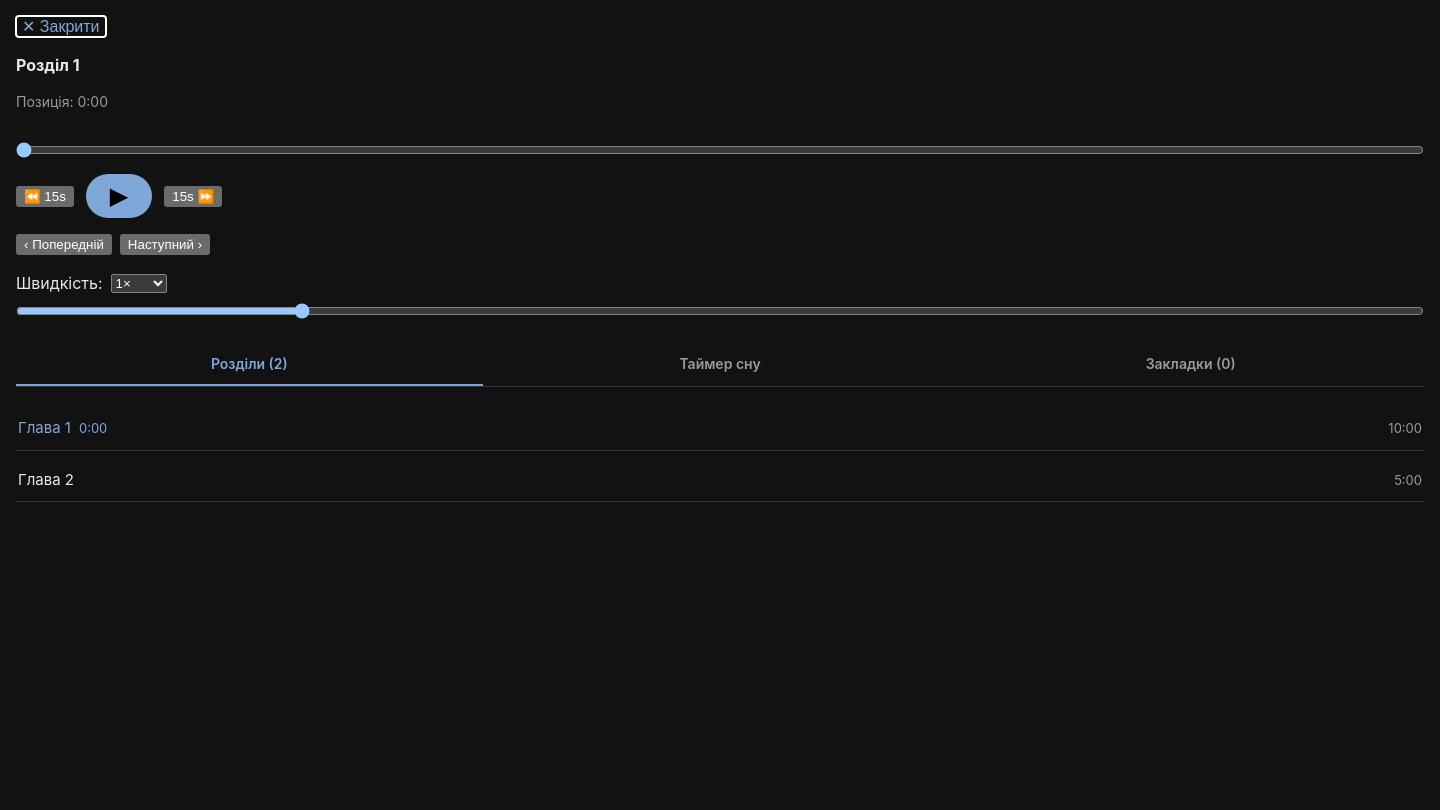
Test case: PlayerSheet panes (W5.1) › offers the exact 0.05 speed step beside the presets (1.1 / 1.15)
Set the slider named "Точна швидкість" to "1.1" at (358, 311), box x1=16 y1=303 x2=1424 y2=319
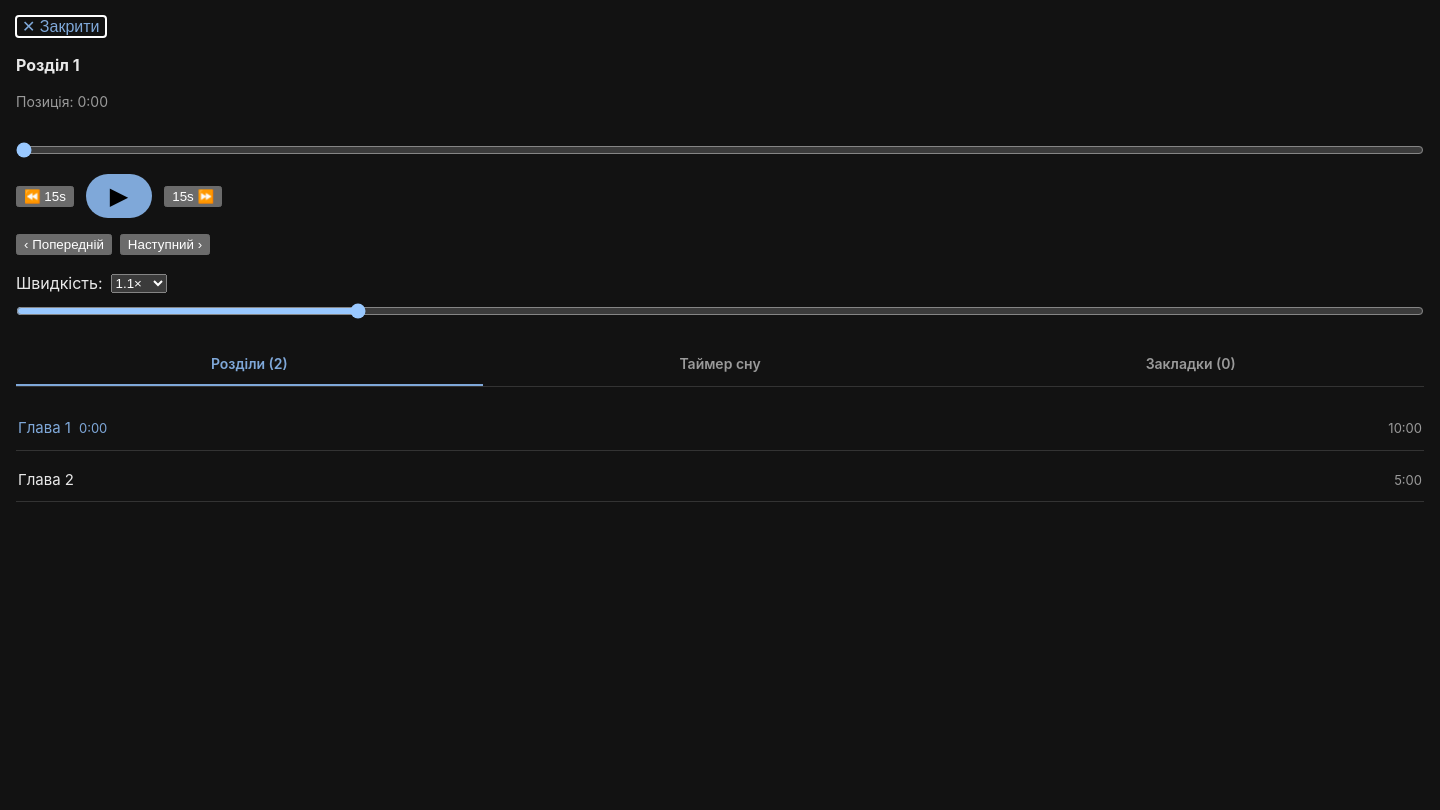
Set the slider named "Точна швидкість" to "1.15" at (386, 311), box x1=16 y1=303 x2=1424 y2=319
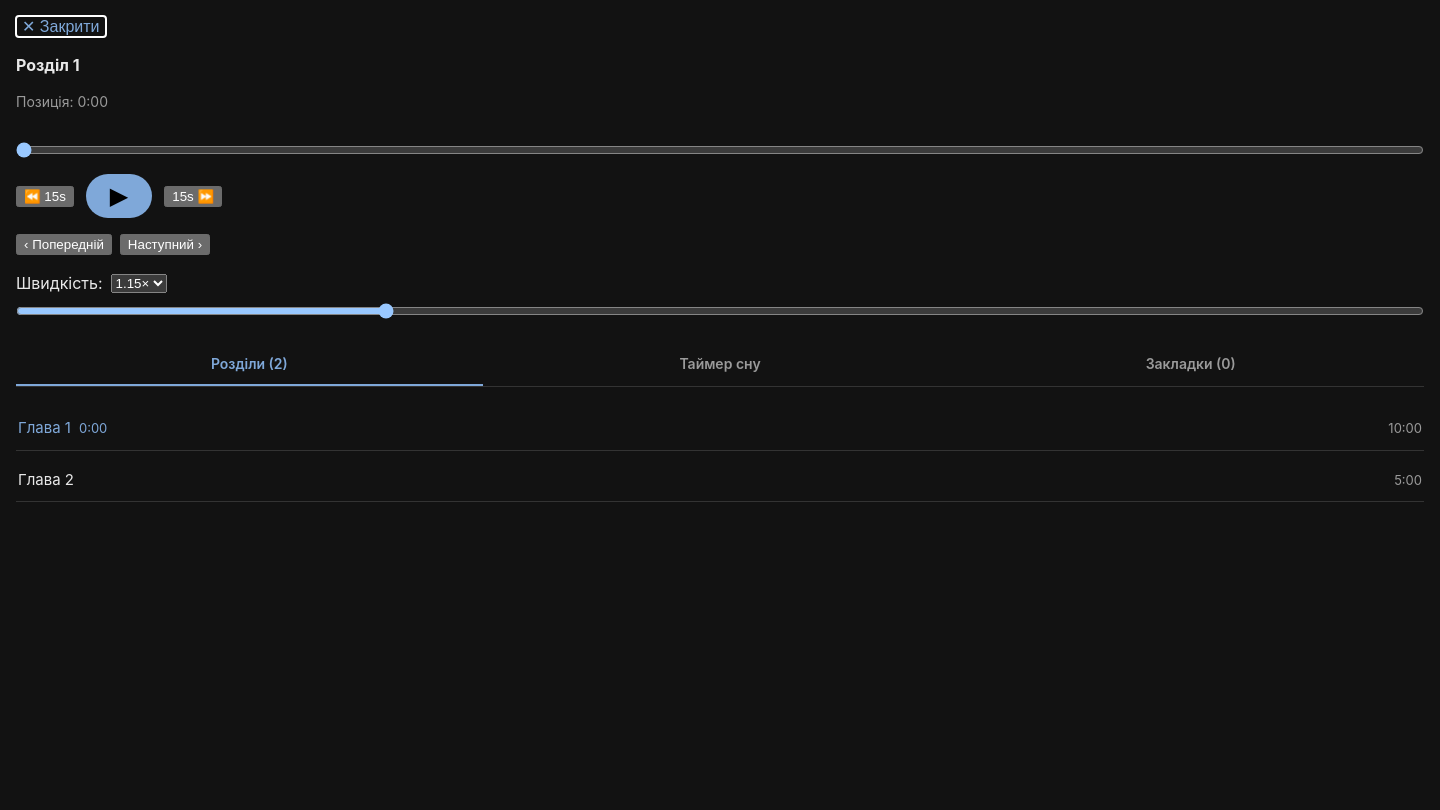
Expected: the dropdown shows "1.15×", x1=111 y1=274 x2=167 y2=292
